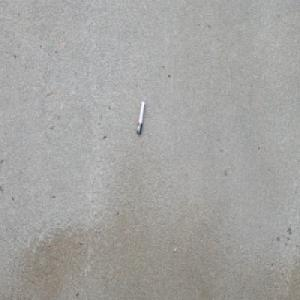Battery: (136, 100, 145, 135)
